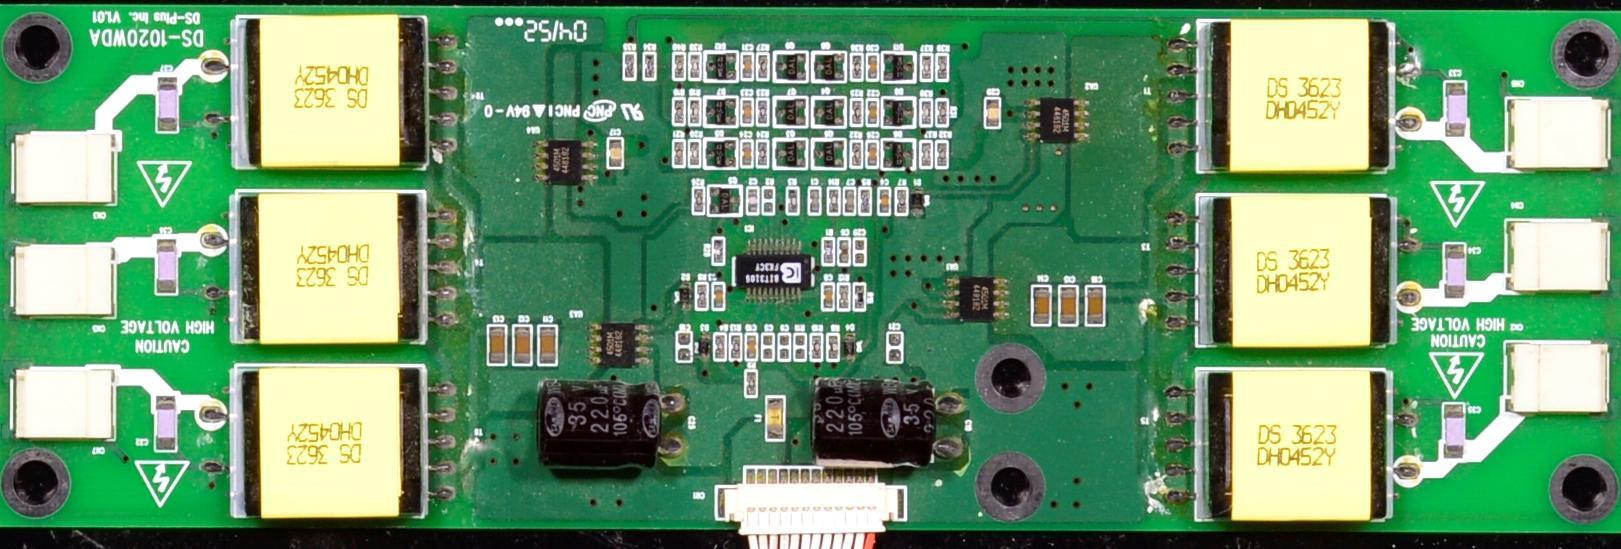Capacitor: (148, 65, 190, 146), (150, 231, 189, 304), (1441, 75, 1481, 144), (1435, 237, 1474, 305), (150, 393, 191, 456), (1437, 397, 1478, 460), (532, 321, 566, 369), (508, 314, 536, 371), (1082, 280, 1112, 333), (1026, 278, 1056, 329), (481, 319, 509, 372), (1057, 277, 1083, 326), (601, 133, 630, 176), (882, 327, 910, 370), (978, 91, 1003, 131), (744, 182, 767, 218), (738, 134, 758, 172), (760, 328, 778, 365), (738, 90, 755, 129), (852, 237, 872, 270), (836, 231, 854, 266), (822, 281, 839, 316), (843, 187, 861, 219), (879, 184, 896, 217), (744, 330, 762, 363), (865, 138, 884, 169), (776, 330, 792, 365), (865, 51, 883, 82), (867, 98, 882, 129), (740, 49, 754, 82)
Connector: (703, 452, 938, 549), (4, 118, 139, 223), (6, 242, 137, 336), (1488, 330, 1621, 421), (5, 357, 123, 456), (1501, 90, 1621, 180), (1502, 213, 1618, 304)
IC: (729, 239, 818, 301), (525, 131, 601, 197), (1021, 92, 1097, 153), (935, 273, 1016, 327), (582, 312, 654, 371)
Resistor: (703, 232, 729, 270), (782, 180, 803, 217), (728, 326, 748, 363), (693, 277, 714, 312), (807, 326, 827, 364), (849, 47, 868, 85), (935, 48, 955, 82), (807, 184, 826, 221), (639, 47, 658, 84), (688, 181, 707, 217), (755, 50, 773, 86), (756, 135, 775, 170), (935, 138, 954, 172), (819, 234, 838, 268), (713, 329, 732, 364), (686, 47, 705, 82), (762, 181, 780, 217), (669, 48, 686, 84), (756, 94, 774, 128), (689, 96, 705, 134), (825, 331, 845, 363), (827, 184, 845, 218), (710, 277, 728, 311), (848, 138, 865, 171), (851, 279, 867, 314), (621, 48, 639, 81), (935, 97, 953, 128), (849, 94, 866, 126), (917, 137, 935, 170), (794, 332, 811, 365), (837, 278, 853, 312), (671, 95, 687, 126), (673, 136, 689, 170), (859, 185, 876, 216), (690, 137, 704, 172), (917, 96, 933, 127), (919, 50, 933, 82)
Transistor: (769, 89, 810, 131), (771, 46, 811, 88), (814, 48, 849, 85), (770, 134, 808, 169), (813, 94, 846, 129), (810, 137, 847, 168)
